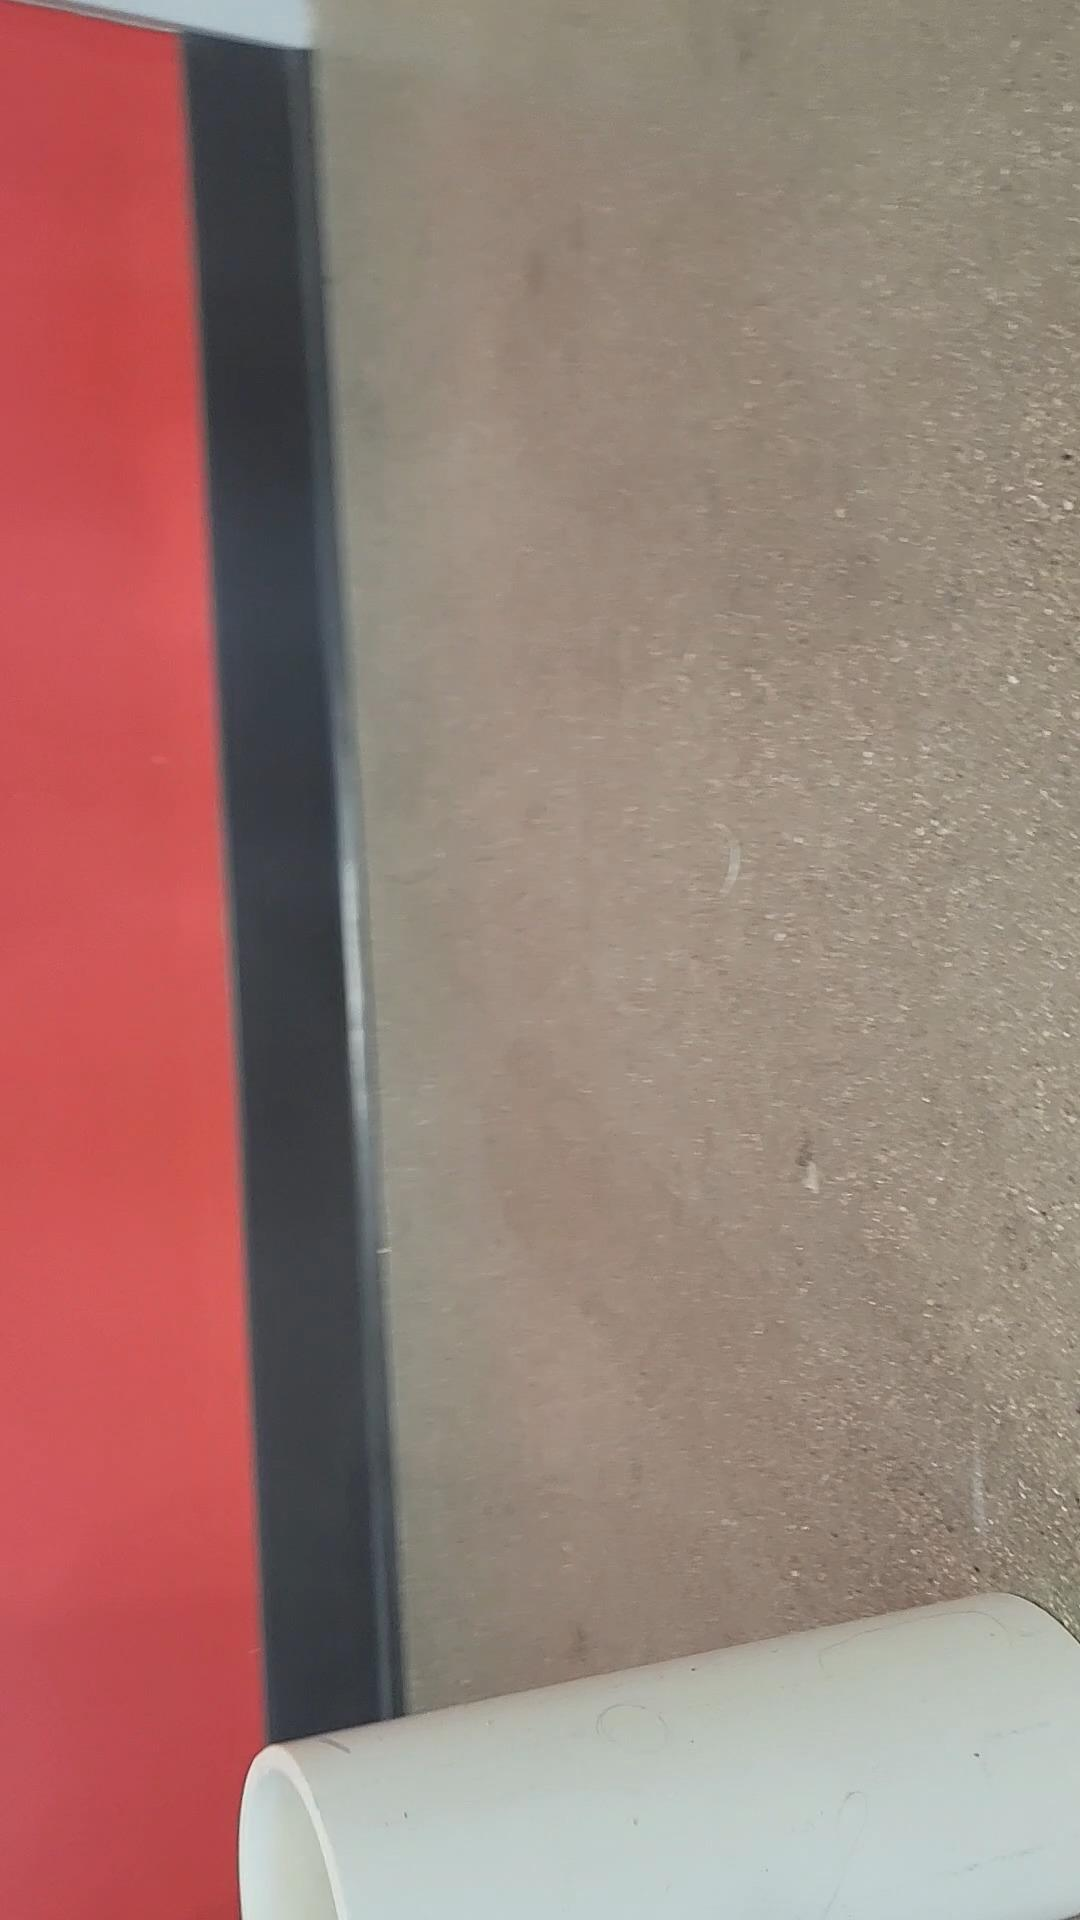coral: (243, 1600, 1080, 1920)
